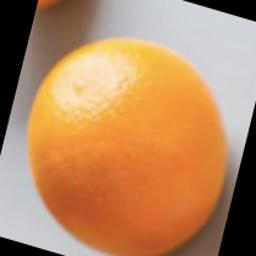Orange Fresh: (13, 2, 253, 256)
